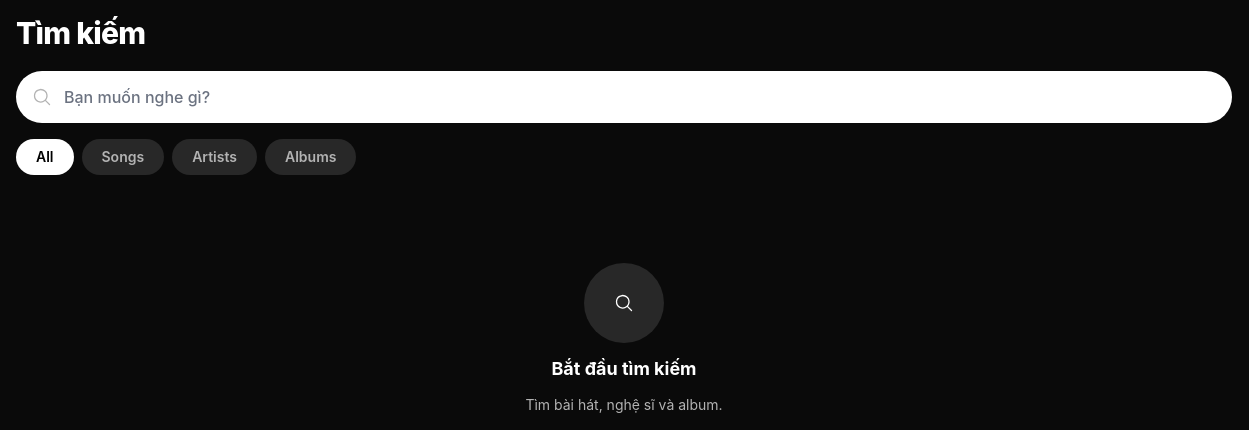
Scenario: SearchPage › shows song results when query returns songs
The width and height of the screenshot is (1249, 430).
Type "top" into the field with test id "search-input".
click(624, 97); type("top")  # box [16,71,1232,123]
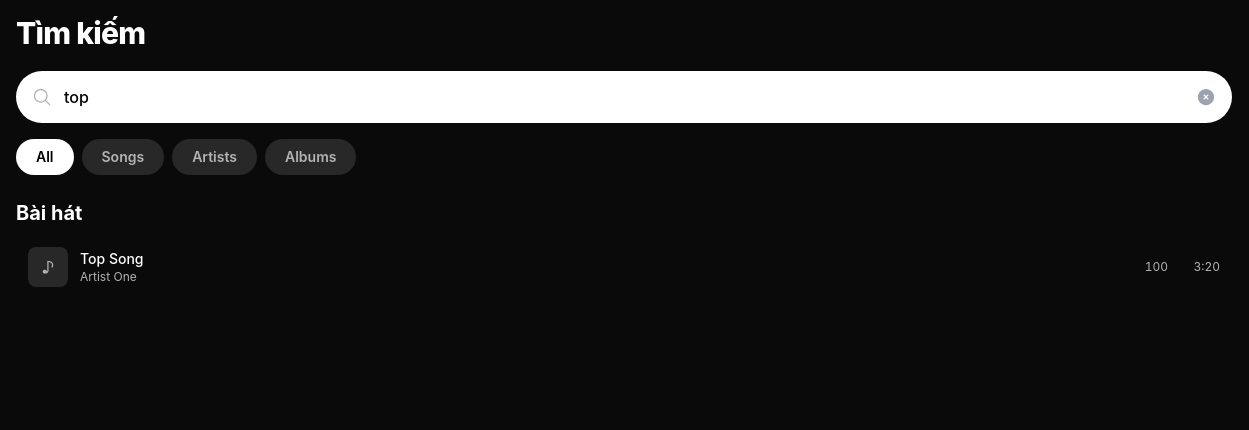
Result: the element with test id "songs-section" is shown at [16,199,1232,295]
Result: the text "Top Song" is shown at [80,250,144,267]
